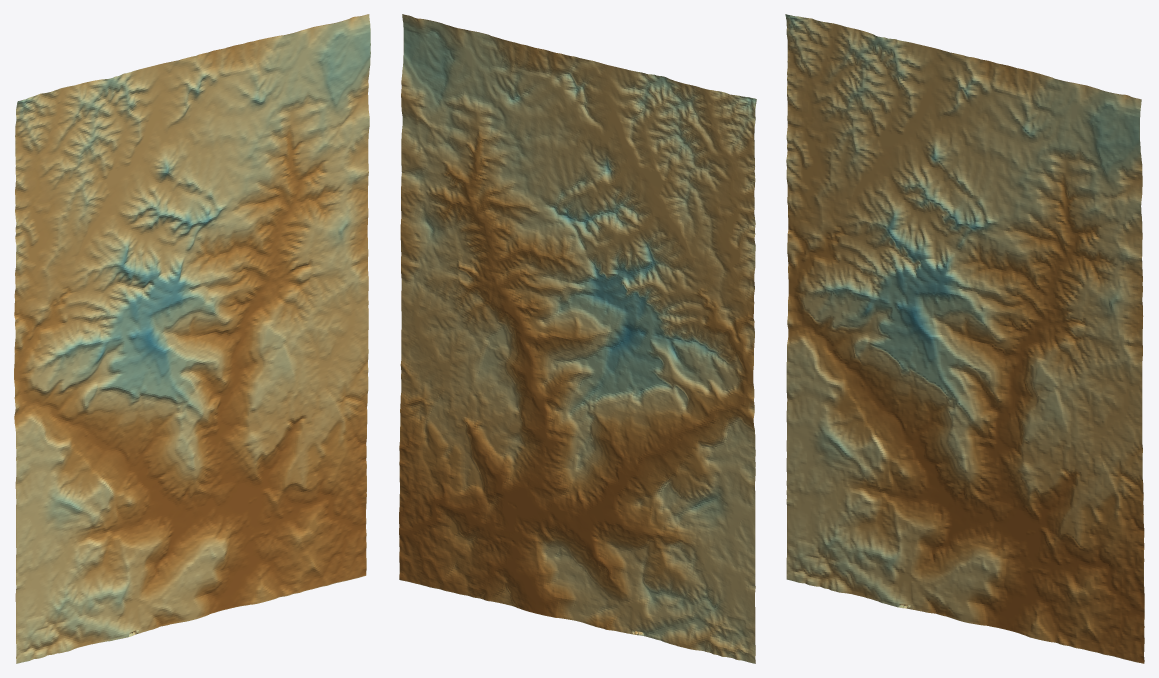
File: topografia.obj
The picture shows the model from 3 angles, left to right: view 1: azimuth 30°, elevation 25°; view 2: azimuth 150°, elevation 25°; view 3: azimuth 330°, elevation 25°; orthographic projection.
Size of the model in its own units: 23259 by 35482 by 722.
Materials: 1 (1 with a texture image).
